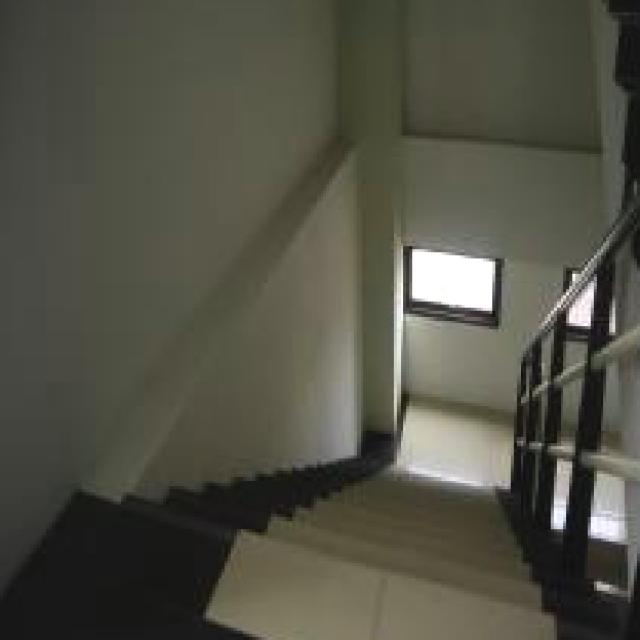downstair: (281, 475, 496, 622)
